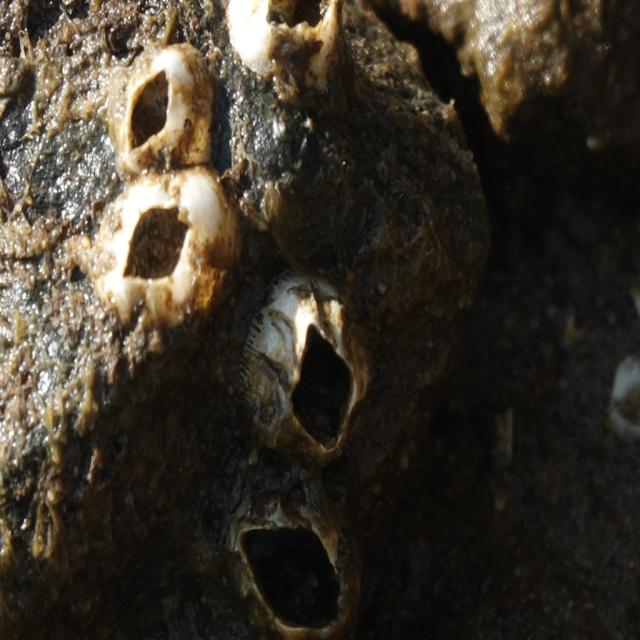barnacles: (82, 178, 244, 344), (242, 288, 378, 485), (218, 489, 371, 640), (112, 39, 218, 176)
